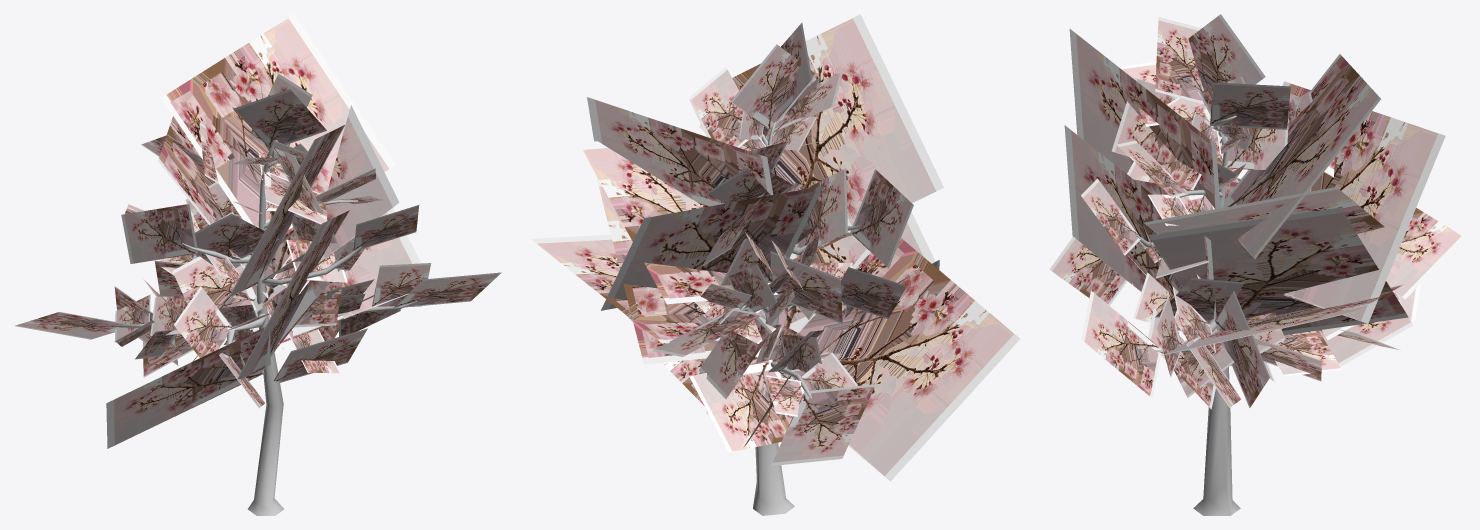
Rendered from Tree02_Ra.fbx.
3 renders of one model, left to right at view 1: azimuth 30°, elevation 25°; view 2: azimuth 150°, elevation 25°; view 3: azimuth 270°, elevation 25°, orthographic. The views are drawn at different scales.
Visible parts, largest first — view 1: Cylinder_002, Cylinder_005; view 2: Cylinder_002, Cylinder_005; view 3: Cylinder_002, Cylinder_005.
Part boxes in pixels (<box>): Cylinder_002: <box>14,14,501,448</box>; Cylinder_005: <box>119,140,417,515</box>; Cylinder_002: <box>531,14,1020,481</box>; Cylinder_005: <box>719,121,859,515</box>; Cylinder_002: <box>1049,14,1465,409</box>; Cylinder_005: <box>1135,91,1240,515</box>.
Bounding box in the file's own units: 736 × 828 × 635.
